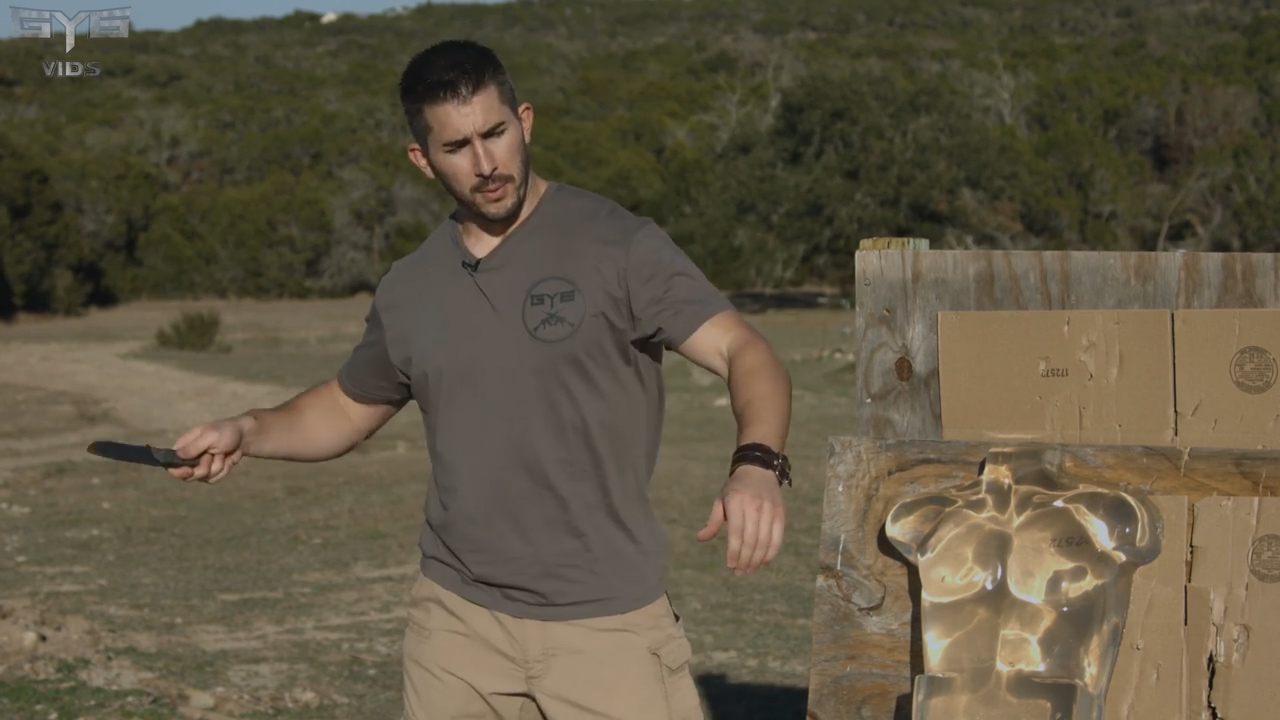knife: (80, 427, 241, 488)
